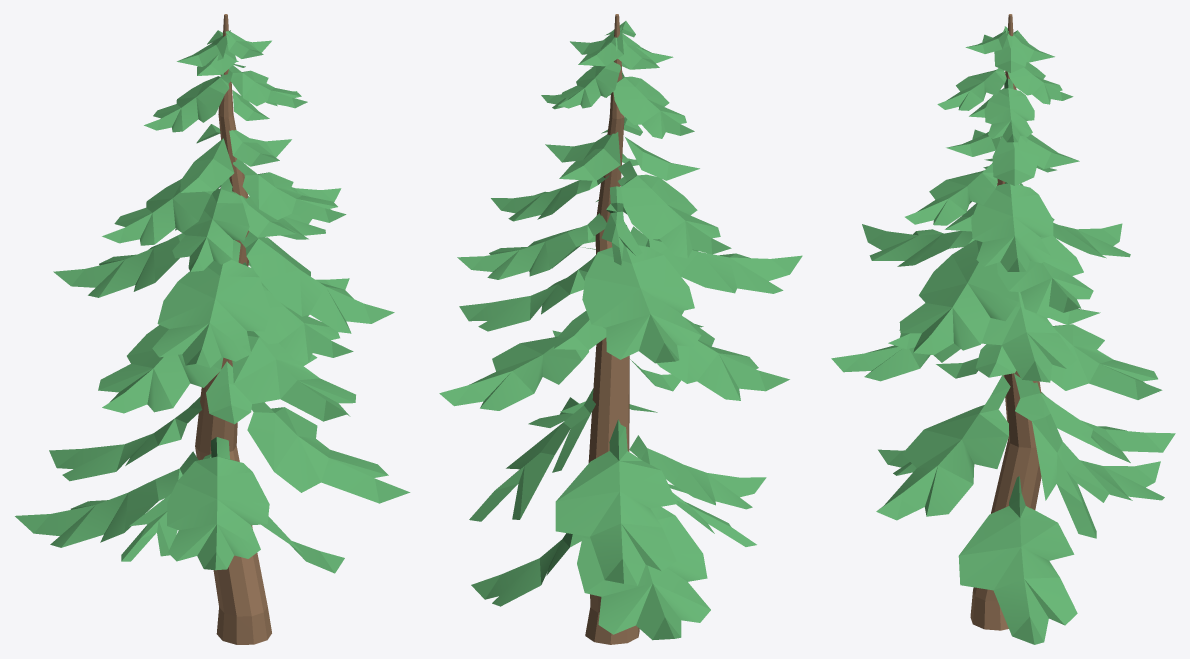
Rendered from Pine_model_B_(6)_instanced_l2_35364.glb.
The picture shows the model from 3 angles, left to right: view 1: azimuth 30°, elevation 25°; view 2: azimuth 150°, elevation 25°; view 3: azimuth 270°, elevation 25°; orthographic projection. The views are drawn at different scales.
Parts seen in each view (by area): view 1: 02_Leaves, 01_Trunk; view 2: 02_Leaves, 01_Trunk; view 3: 02_Leaves, 01_Trunk.
Boxes of the visible parts, bbox=[...] form: 02_Leaves: bbox=[15, 30, 410, 573]; 01_Trunk: bbox=[195, 14, 271, 644]; 02_Leaves: bbox=[439, 21, 802, 640]; 01_Trunk: bbox=[585, 14, 639, 644]; 02_Leaves: bbox=[831, 26, 1175, 644]; 01_Trunk: bbox=[970, 14, 1041, 630].
Size of the model in its own units: 4.87 by 10 by 5.22.
